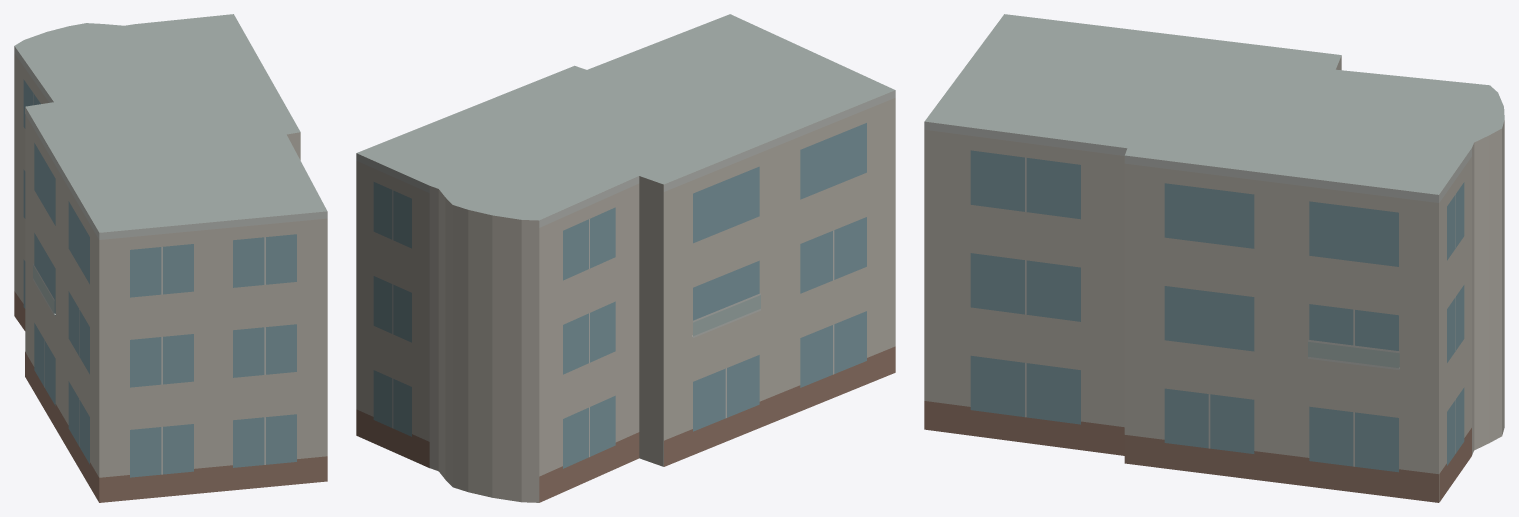
Rendered from survey-upis-32535683.glb.
The picture shows the model from 3 angles, left to right: view 1: azimuth 30°, elevation 25°; view 2: azimuth 150°, elevation 25°; view 3: azimuth 270°, elevation 25°; orthographic projection. The views are drawn at different scales.
Parts seen in each view (by area): view 1: survey-upis-32535683.tmp; view 2: survey-upis-32535683.tmp; view 3: survey-upis-32535683.tmp.
Boxes of the visible parts, <box> form: survey-upis-32535683.tmp: <box>14,14,327,502</box>; survey-upis-32535683.tmp: <box>356,14,895,502</box>; survey-upis-32535683.tmp: <box>924,14,1504,502</box>.
Size of the model in its own units: 11.54 by 9.15 by 15.63.
